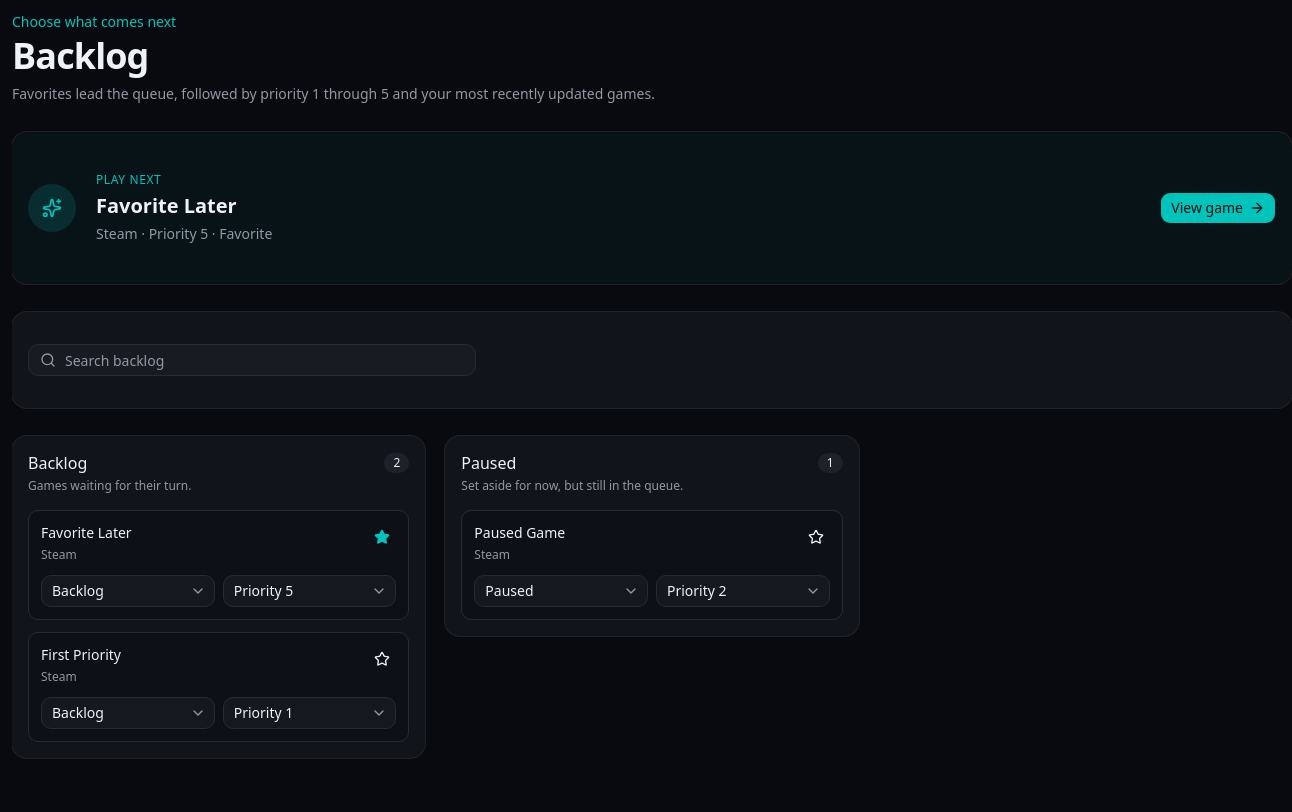
Test: BacklogPage › uses play-next ordering and applies favorite and status actions
This screenshot has width=1292, height=812.
Check: the heading "Favorite Later" is shown, box [96, 192, 237, 219]
What coordinates should you click on to do the following:
click the button named "Add First Priority to favorites"
I would click on:
 (382, 659)
Its box is [368, 645, 396, 673].
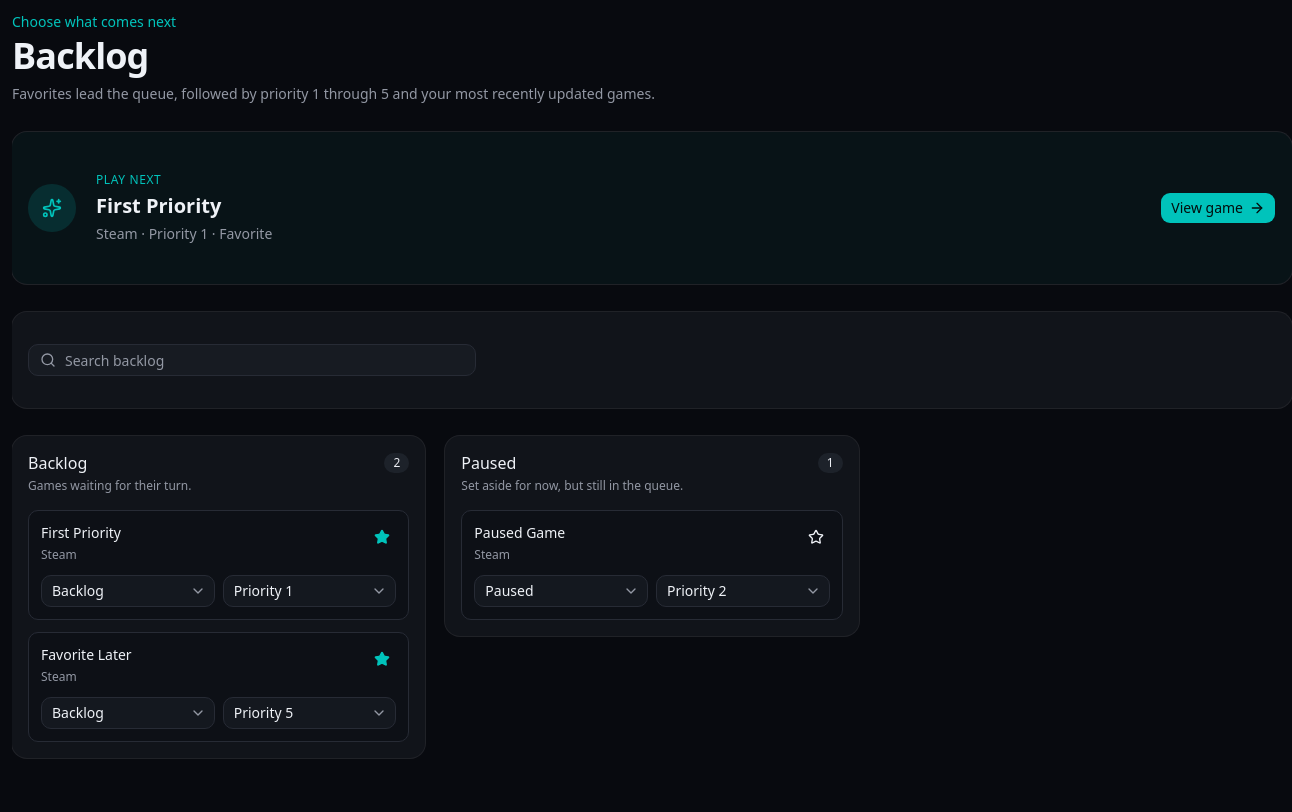
Check: the heading "First Priority" is shown, box [96, 192, 221, 219]
What coordinates should you click on to do the following:
click the dropdown named "Priority for Paused Game"
I would click on:
 (743, 591)
Its box is [656, 575, 830, 607].
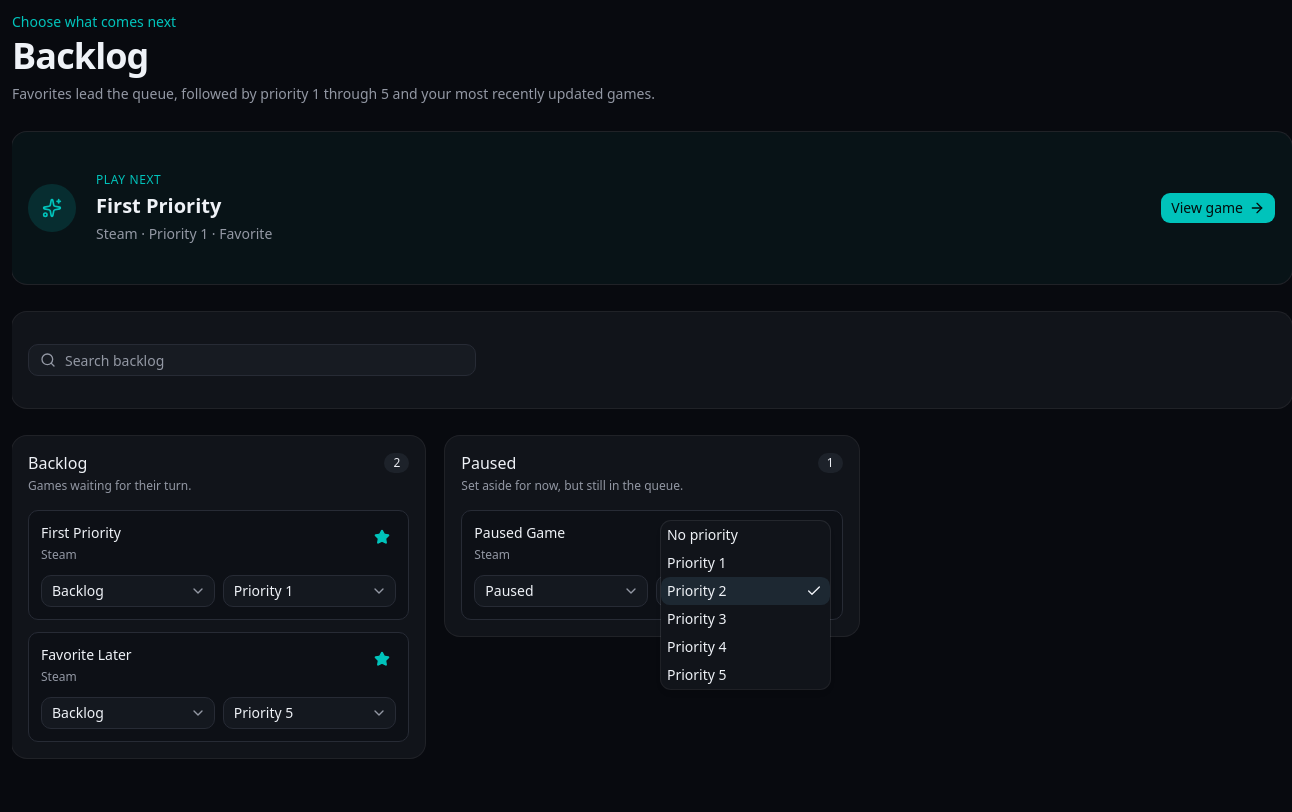
What coordinates should you click on to do the following:
click the option "Priority 4"
I would click on:
 (697, 646)
Its box is [667, 637, 727, 656].
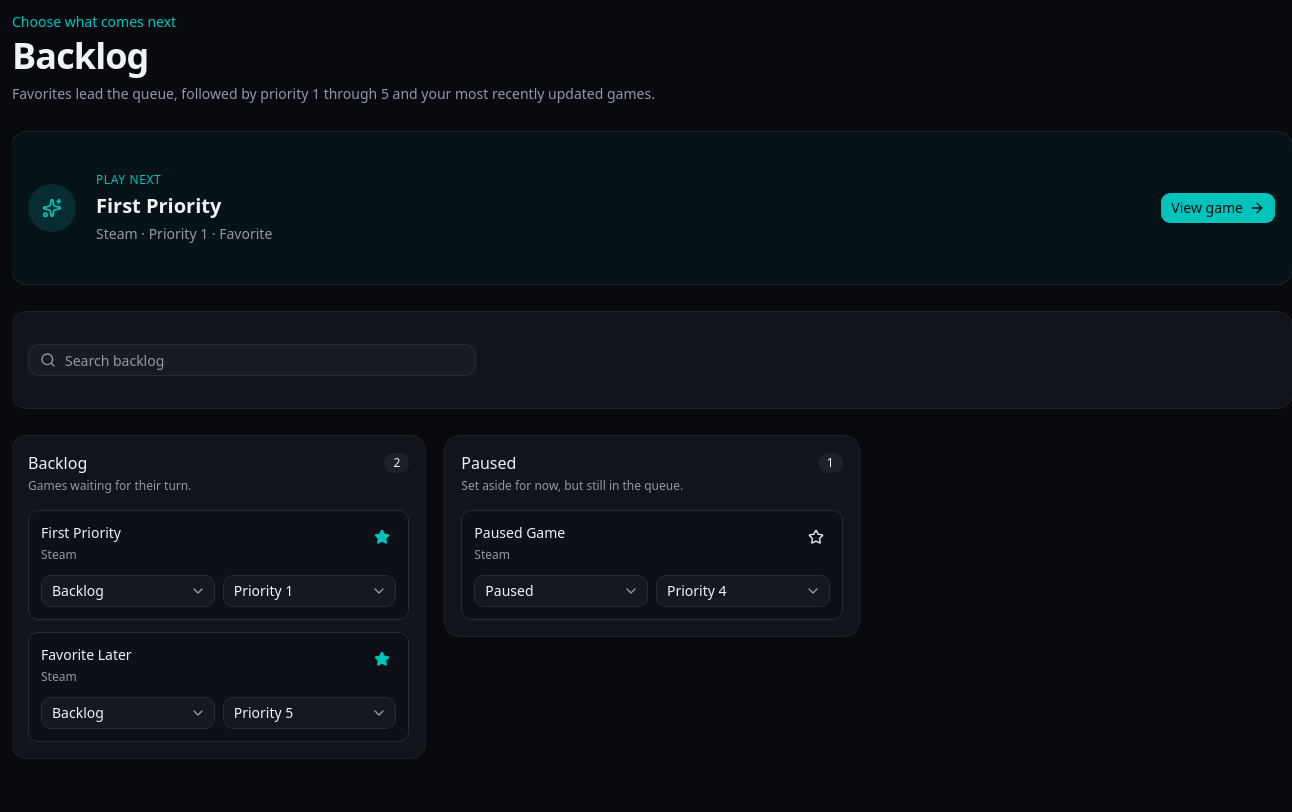
What coordinates should you click on to do the following:
click the dropdown named "Status for First Priority"
I would click on:
 (128, 591)
Its box is [41, 575, 215, 607].
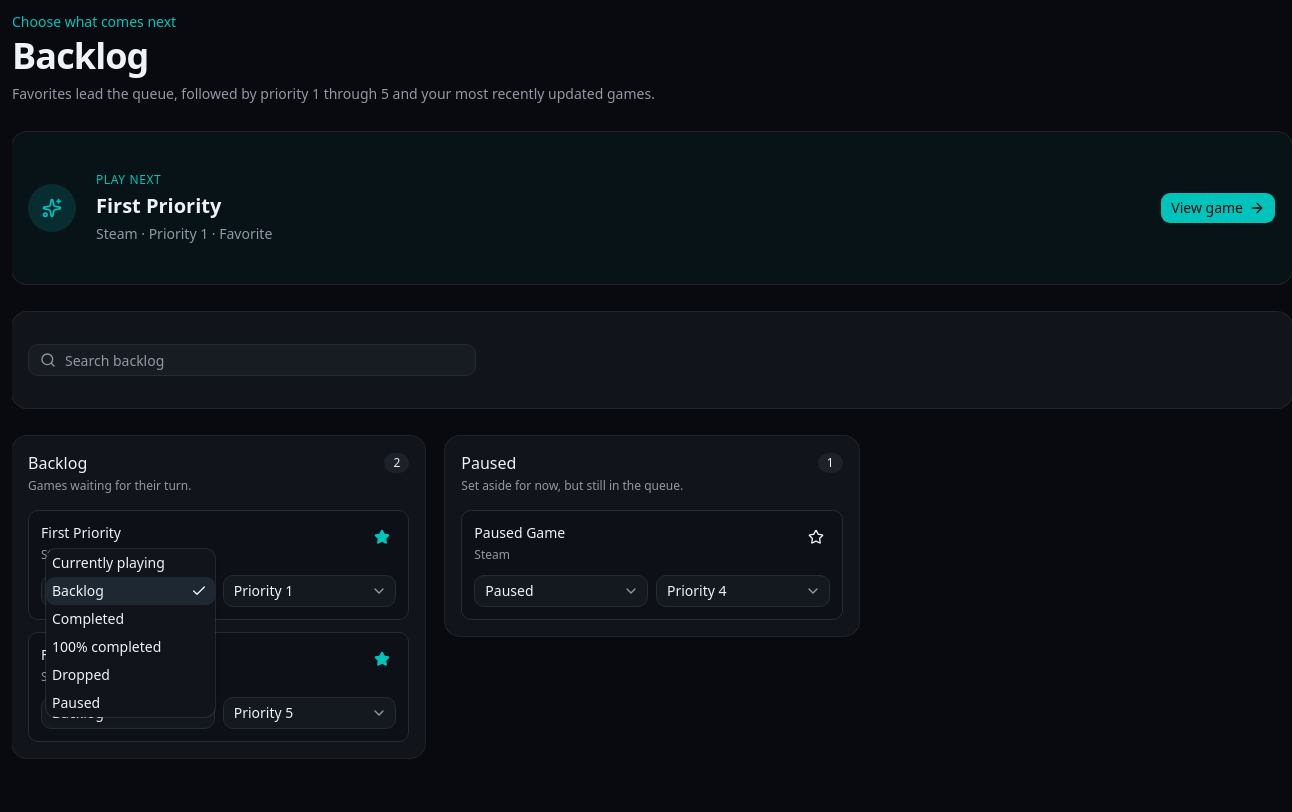
What coordinates should you click on to do the following:
click the option "Completed"
I would click on:
 (88, 618)
Its box is [52, 609, 124, 628].
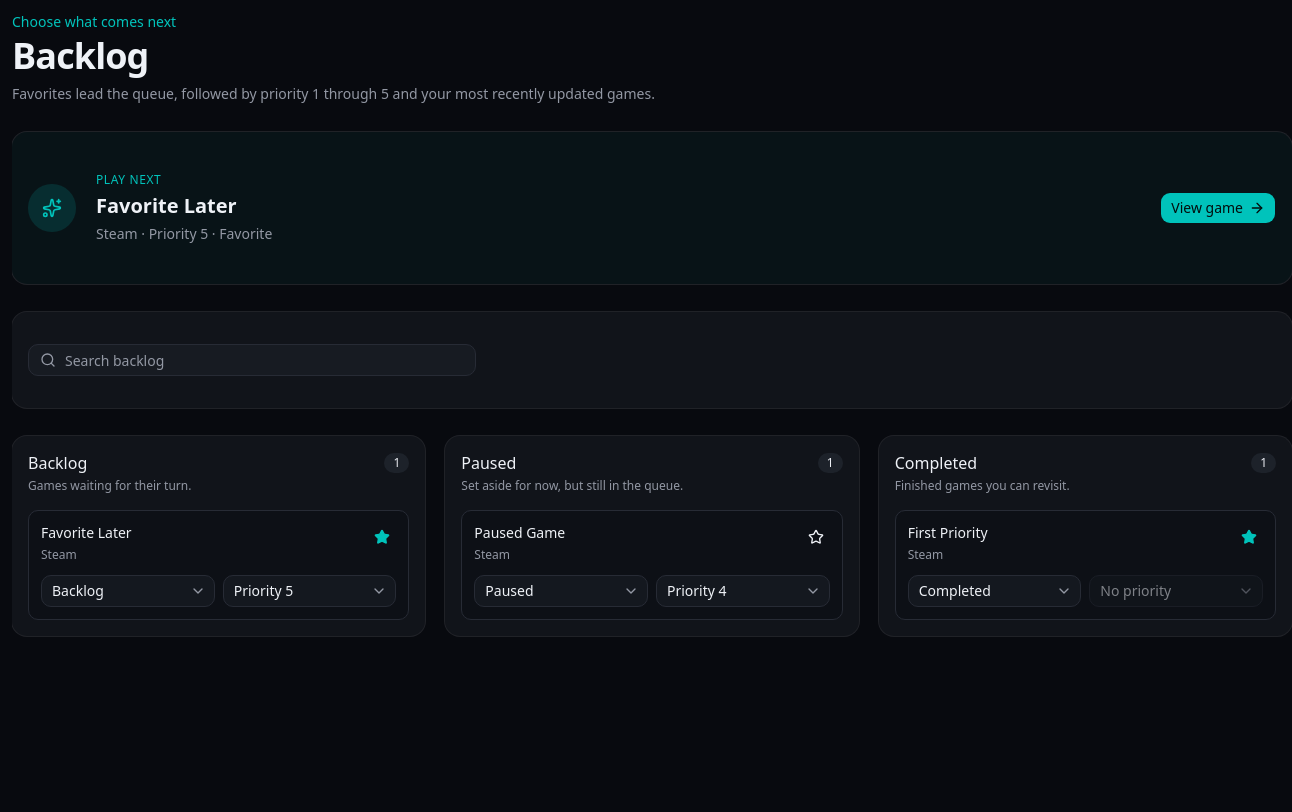
Check: the text "Finished games you can revisit." is shown, box [895, 477, 1070, 494]
